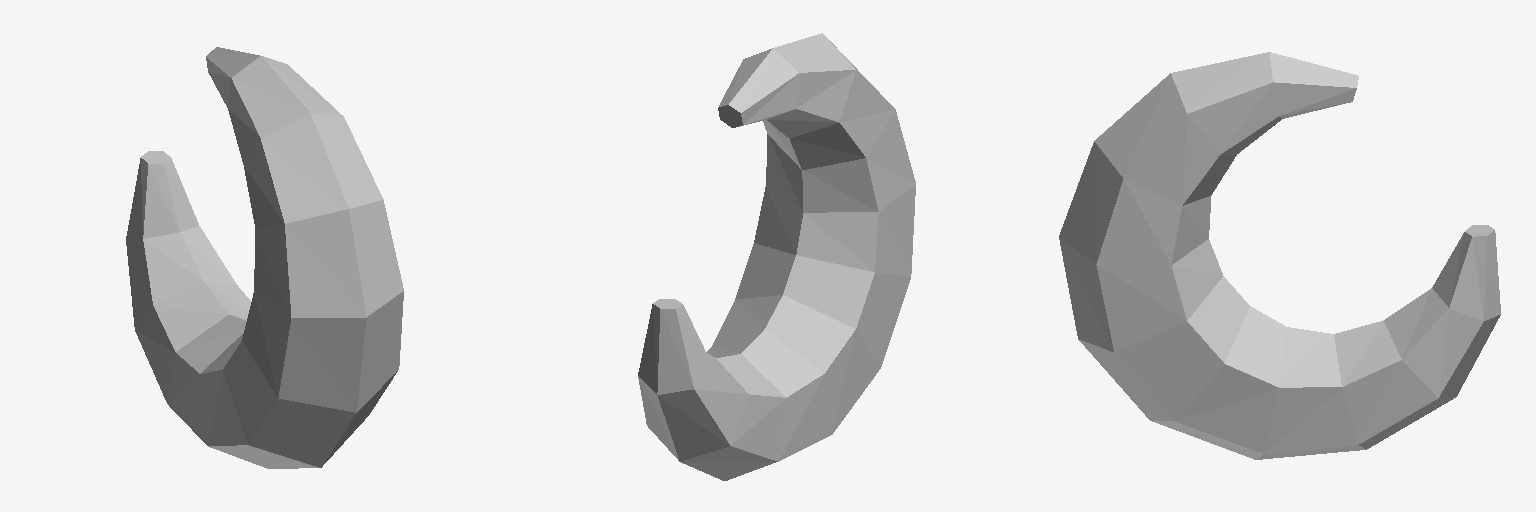
The model's file is moon.obj.
3 renders of one model, left to right at view 1: azimuth 30°, elevation 25°; view 2: azimuth 150°, elevation 25°; view 3: azimuth 270°, elevation 25°, orthographic.
Visible parts, largest first — view 1: Cylinder; view 2: Cylinder; view 3: Cylinder.
Boxes of the visible parts, <box> form: Cylinder: <box>126,47,403,468</box>; Cylinder: <box>638,33,915,480</box>; Cylinder: <box>1059,52,1500,459</box>.
Size of the model in its own units: 3.47 by 11.19 by 10.99.